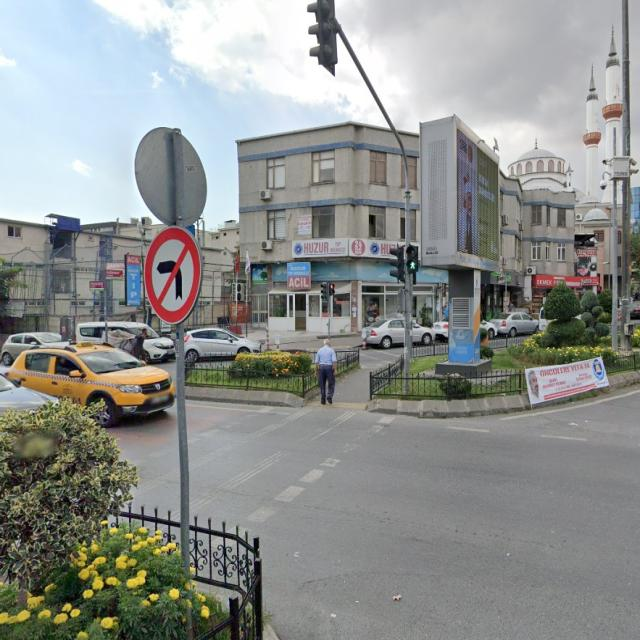soladonulmez: (144, 226, 202, 324)
